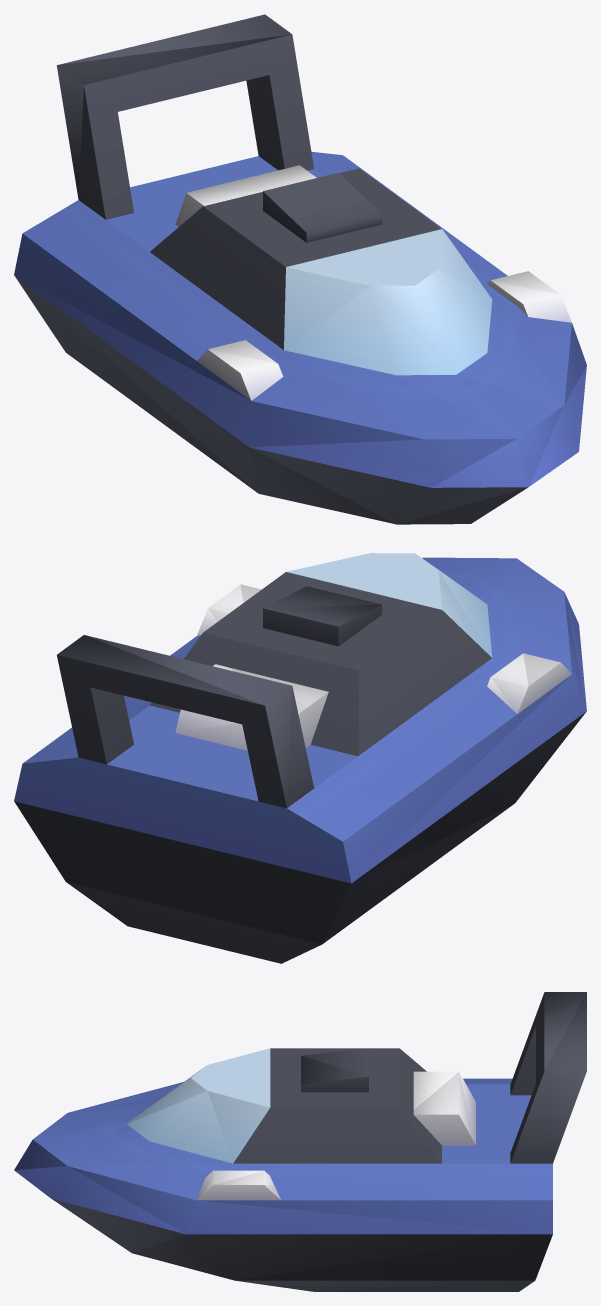
The model's file is kw_boat_speed_a.fbx.
The picture shows the model from 3 angles, top to bottom: view 1: azimuth 30°, elevation 25°; view 2: azimuth 150°, elevation 25°; view 3: azimuth 270°, elevation 25°; orthographic projection. The views are drawn at different scales.
Visible parts, largest first — view 1: kw_boat_speed_a; view 2: kw_boat_speed_a; view 3: kw_boat_speed_a.
Boxes of the visible parts, bbox=[...] form: kw_boat_speed_a: bbox=[14, 14, 586, 524]; kw_boat_speed_a: bbox=[14, 553, 586, 963]; kw_boat_speed_a: bbox=[14, 992, 586, 1291].
Bounding box in the file's own units: 3.75 × 3.15 × 7.08.
